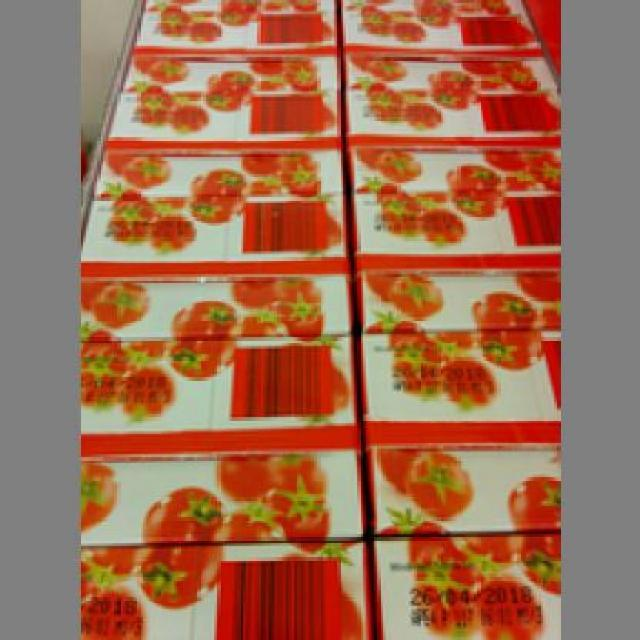Tomato Sauce: (77, 448, 366, 638), (77, 274, 357, 450), (366, 442, 557, 638), (354, 263, 557, 446), (79, 142, 352, 268), (346, 134, 554, 266), (103, 48, 343, 148), (337, 43, 554, 140), (109, 0, 338, 49), (337, 0, 543, 52)
